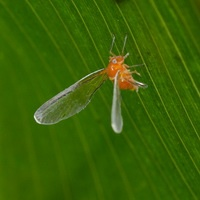insect: (34, 36, 147, 132)
